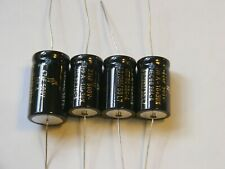capacitor: (27, 35, 72, 133), (133, 44, 181, 135), (101, 42, 140, 137), (69, 43, 105, 129)
